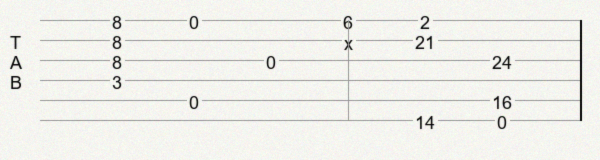0: (189, 92, 203, 109), (189, 12, 203, 29), (266, 52, 280, 69), (497, 112, 511, 129)
14: (415, 112, 439, 129)
16: (492, 92, 516, 109)
2: (420, 12, 434, 29)
21: (415, 32, 439, 49)
24: (492, 52, 516, 69)
3: (112, 72, 126, 89)
6: (343, 12, 357, 29)
8: (112, 12, 126, 29), (112, 52, 126, 69), (112, 32, 126, 49)
x: (344, 33, 357, 47)
